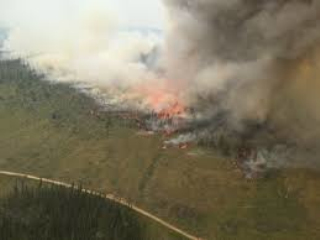fire: (148, 87, 185, 118)
smoke: (166, 1, 309, 159), (97, 21, 168, 108)
